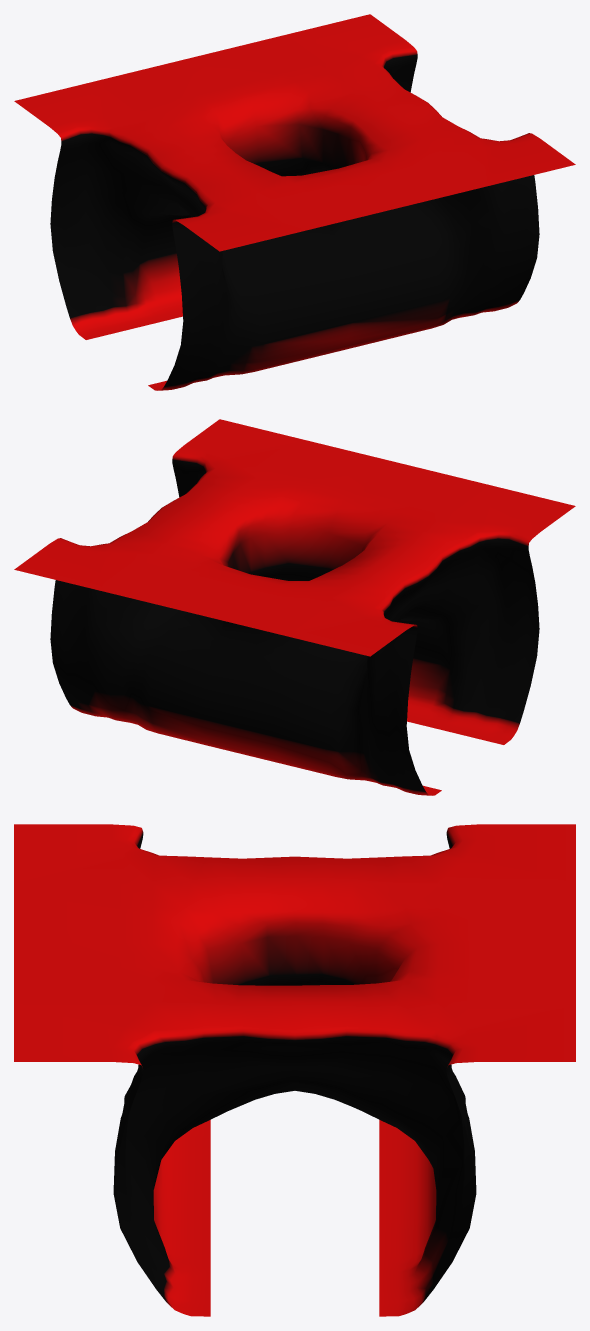
The model's file is CrossingCliff03B 2M Background.fbx.
3 renders of one model, top to bottom at view 1: azimuth 30°, elevation 25°; view 2: azimuth 150°, elevation 25°; view 3: azimuth 270°, elevation 25°, orthographic. The views are drawn at different scales.
Visible parts, largest first — view 1: CrossingCliff03B 2M Background; view 2: CrossingCliff03B 2M Background; view 3: CrossingCliff03B 2M Background.
Boxes of the visible parts, <box> form: CrossingCliff03B 2M Background: <box>14,14,575,390</box>; CrossingCliff03B 2M Background: <box>14,419,575,795</box>; CrossingCliff03B 2M Background: <box>14,824,575,1316</box>.
Size of the model in its own units: 4 by 2.01 by 4.
